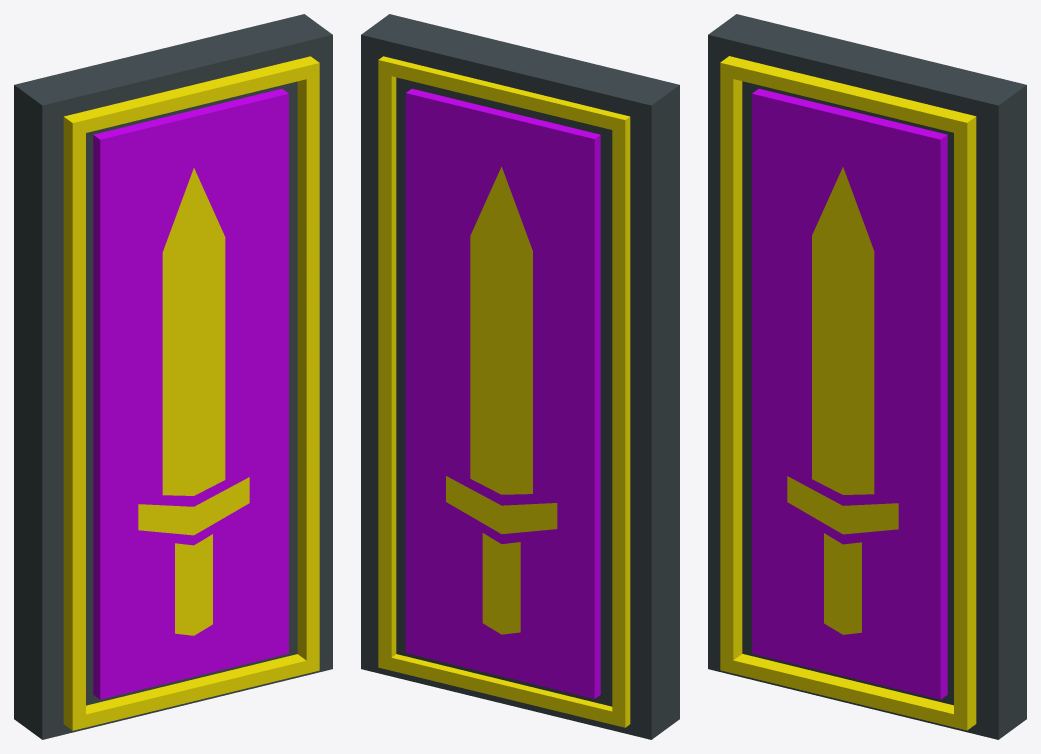
Rendered from Signboard 04.FBX.
The picture shows the model from 3 angles, left to right: view 1: azimuth 30°, elevation 25°; view 2: azimuth 150°, elevation 25°; view 3: azimuth 330°, elevation 25°; orthographic projection.
Visible parts, largest first — view 1: Signboard 04; view 2: Signboard 04; view 3: Signboard 04.
Part boxes in pixels (x1,y1,x2,y2): Signboard 04: (14,14,332,739); Signboard 04: (361,14,679,739); Signboard 04: (708,14,1026,739).
Size of the model in its own units: 100 by 210 by 26.43.
